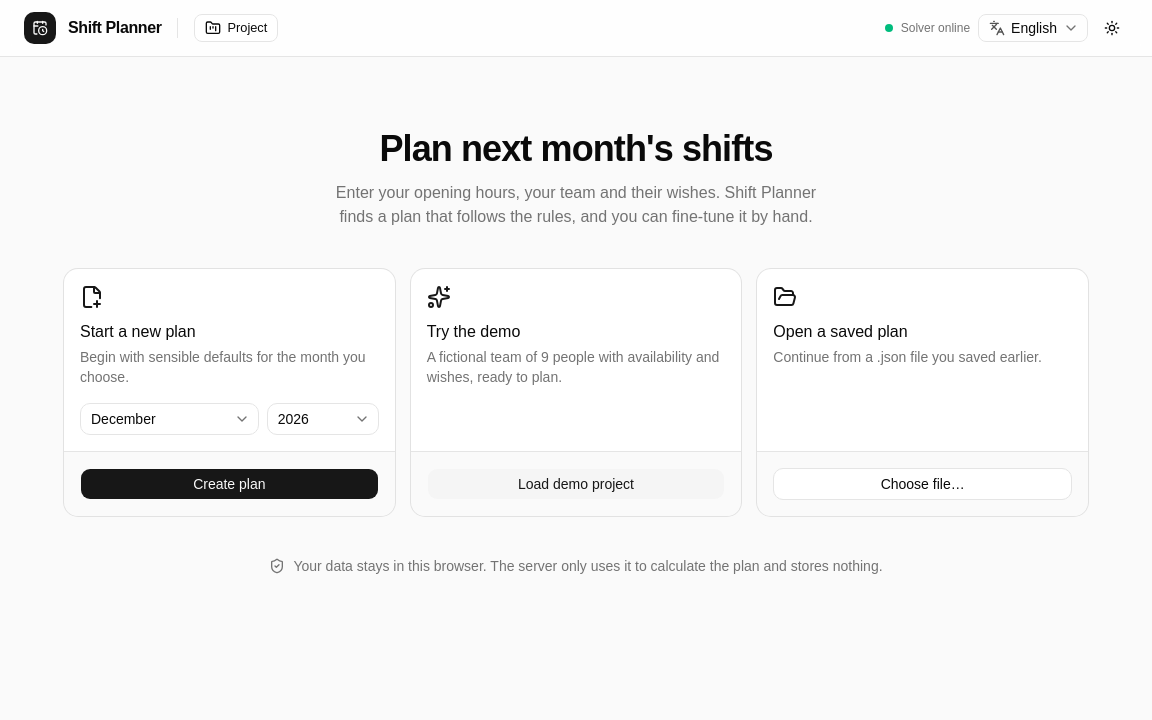
Test: App › switches language and persists the choice
The width and height of the screenshot is (1152, 720).
Click the dropdown named "Language".
click(1033, 28)  # box [978, 14, 1088, 42]
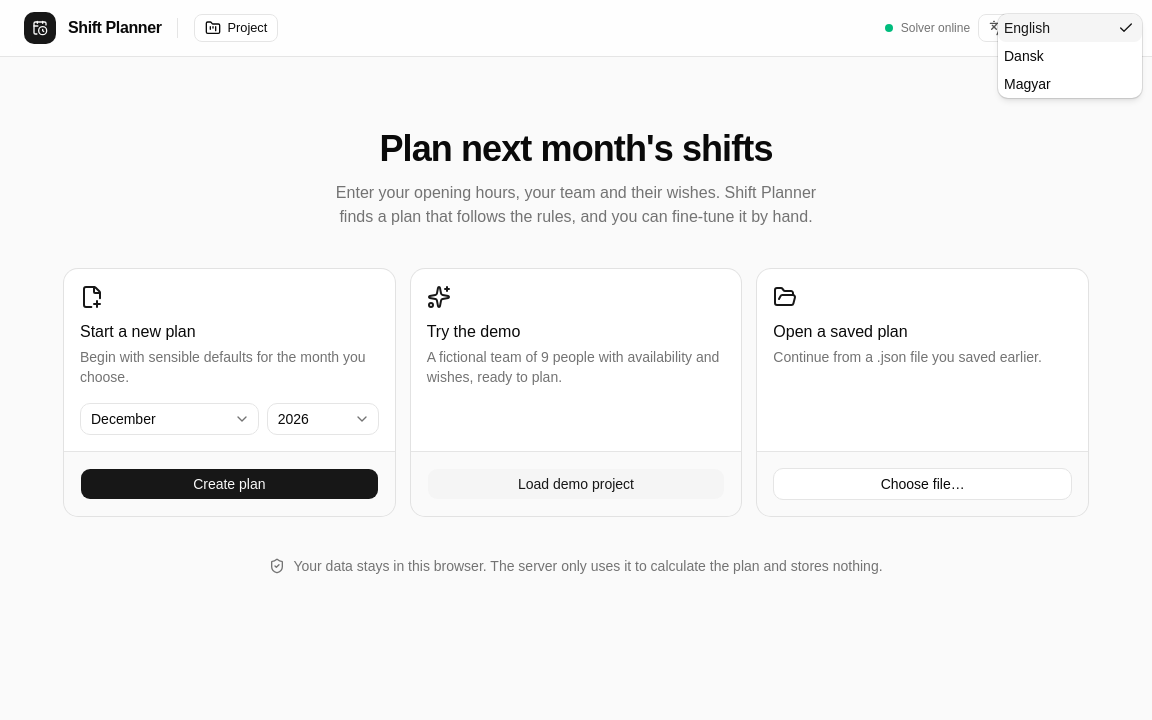
Click the option "Dansk".
click(1024, 56)  # box [1004, 48, 1044, 64]
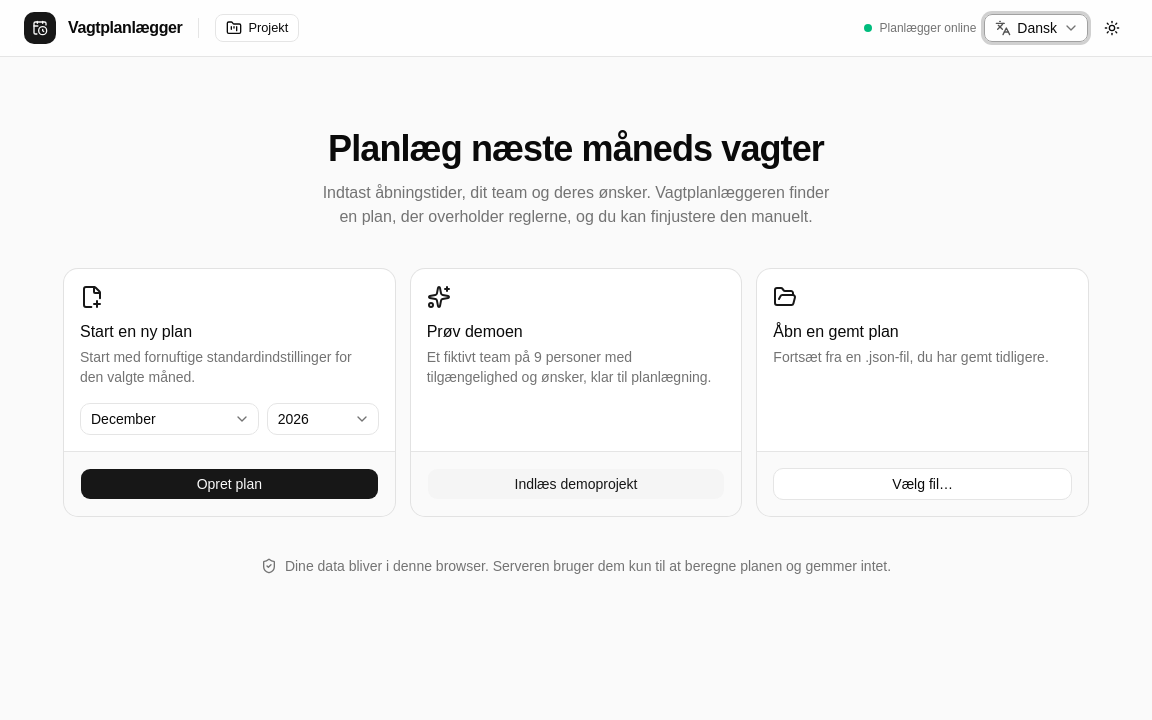
Expected: the heading "Planlæg næste måneds vagter" is shown, [328, 129, 824, 169]
